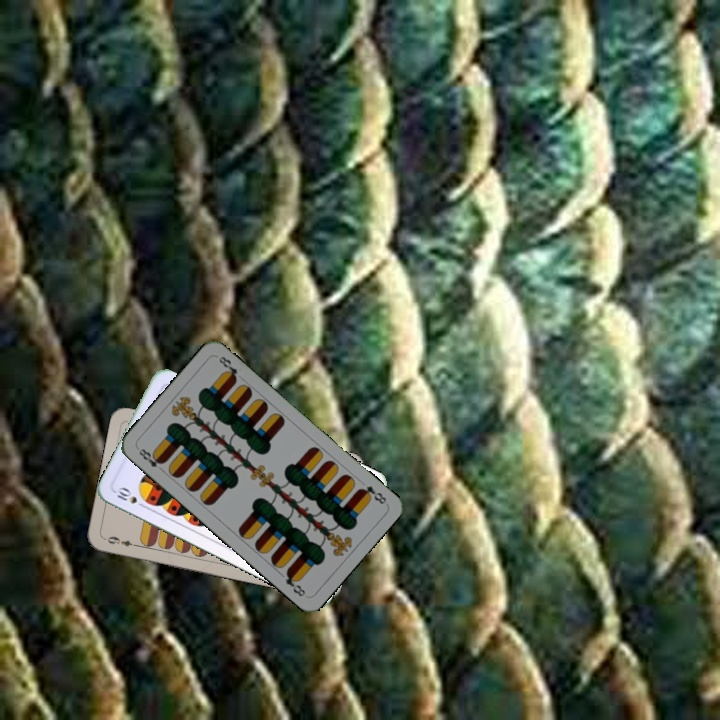E8: (135, 444, 167, 475), (355, 481, 389, 507)
E9: (103, 532, 141, 549)
S10: (111, 483, 149, 511)
